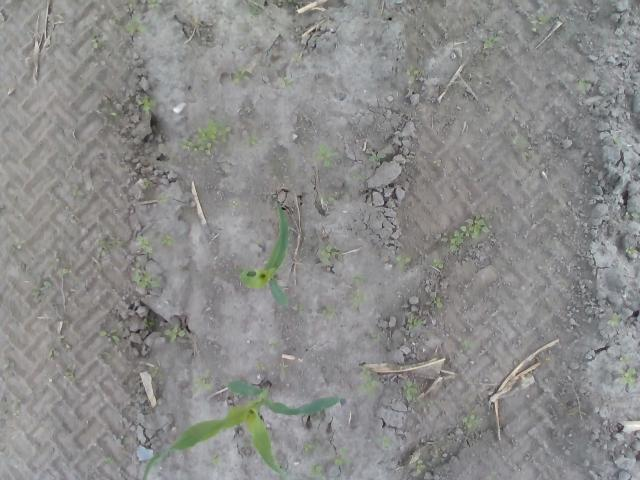Maize: (144, 378, 340, 476), (238, 204, 290, 308)
Weeds: (176, 118, 232, 156), (447, 210, 491, 253), (131, 262, 160, 288), (191, 366, 213, 396), (359, 366, 379, 395), (351, 270, 368, 304), (316, 142, 338, 168), (318, 241, 340, 266), (134, 233, 154, 256), (162, 325, 186, 343), (334, 445, 354, 466), (126, 15, 146, 36), (136, 92, 156, 112), (396, 254, 414, 274), (401, 382, 418, 402), (30, 277, 42, 305), (481, 36, 504, 50), (98, 330, 120, 344), (95, 238, 112, 256), (308, 461, 325, 478), (66, 182, 84, 198), (620, 366, 636, 384), (462, 414, 482, 428), (462, 335, 479, 351), (232, 68, 250, 82), (378, 432, 392, 449), (607, 312, 622, 327), (368, 152, 384, 166), (406, 318, 424, 330), (303, 441, 321, 453), (431, 255, 446, 269), (323, 304, 336, 320), (318, 191, 338, 201), (90, 36, 102, 52), (160, 234, 176, 246), (405, 64, 419, 77), (245, 134, 258, 146), (48, 346, 59, 360), (511, 135, 528, 144), (294, 303, 304, 318), (432, 298, 444, 310), (210, 454, 222, 466), (416, 459, 426, 473), (150, 366, 162, 377), (64, 369, 74, 382), (577, 78, 587, 91), (158, 194, 170, 204), (352, 175, 369, 182), (537, 16, 551, 24), (147, 0, 161, 8), (144, 318, 155, 328), (284, 77, 294, 88), (102, 456, 115, 464), (432, 159, 442, 168), (612, 136, 622, 145), (624, 245, 633, 254), (144, 178, 152, 188), (256, 362, 264, 370), (108, 111, 120, 116)
